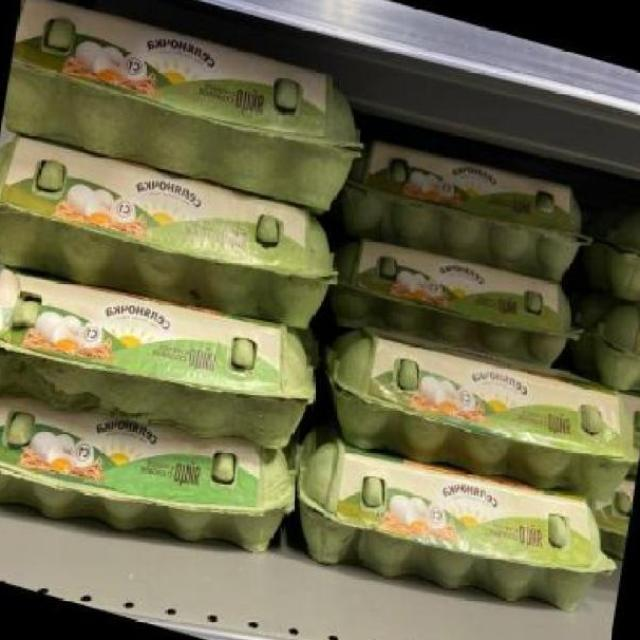Egg: (2, 0, 364, 220), (0, 118, 342, 346), (286, 411, 618, 638), (0, 240, 321, 469), (0, 352, 299, 589), (316, 301, 640, 519), (337, 116, 602, 294), (325, 218, 587, 378), (577, 281, 640, 406), (591, 189, 640, 314)
